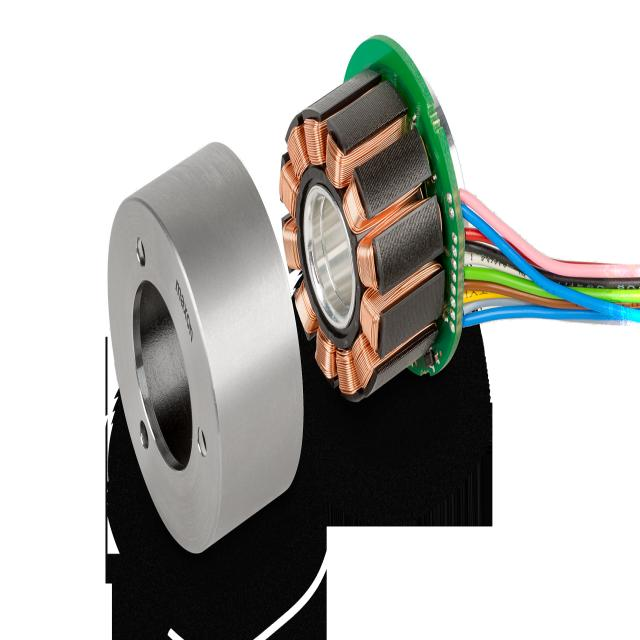motor: (103, 39, 640, 559)
